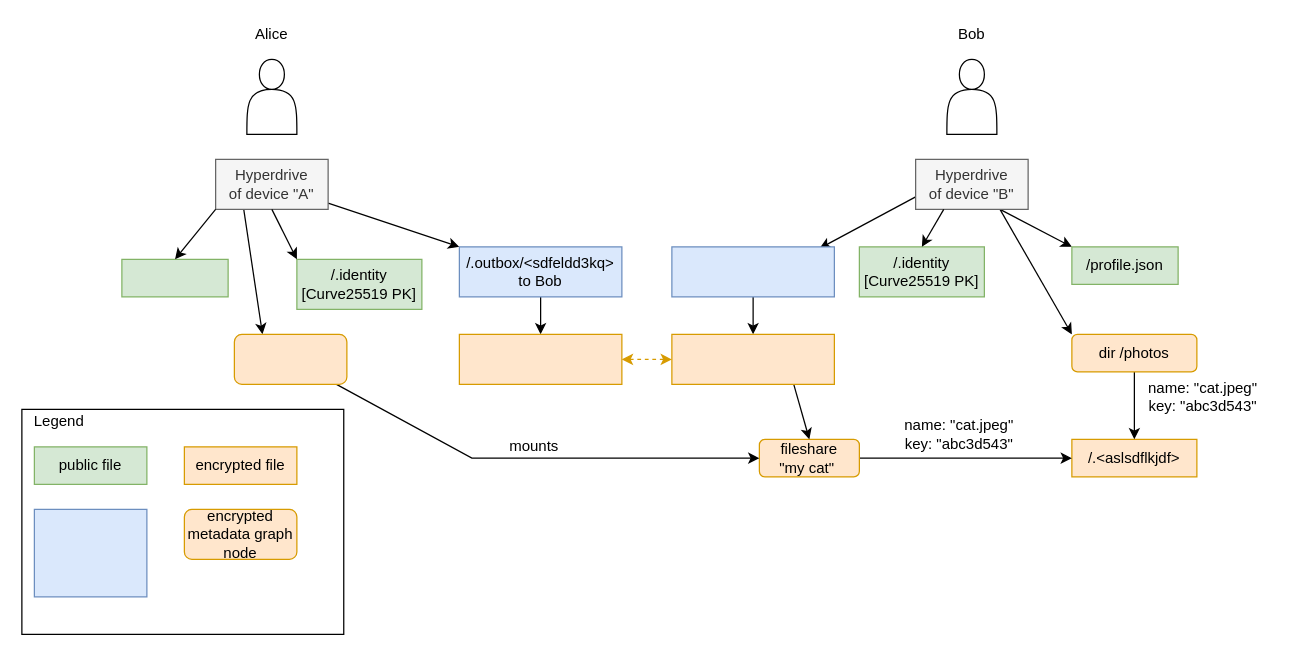
This 1294x656 diagram has some shape labels left out. The box of each missing label's shape, as (x1, y1, x2, y2) in pixels:
/.<sdfldfoe> Communication channel with Bob: (458, 333, 622, 384)
/.<sskjfjhs> Communication channel with Alice: (671, 333, 834, 384)
/.outbox/<d3adb33f> to Alice: (671, 246, 834, 297)
/bobs-cat: (233, 333, 347, 384)
outbox entry = public file encrypted with X25519 shared secret: (33, 508, 147, 597)
profile.json: (121, 258, 228, 297)
